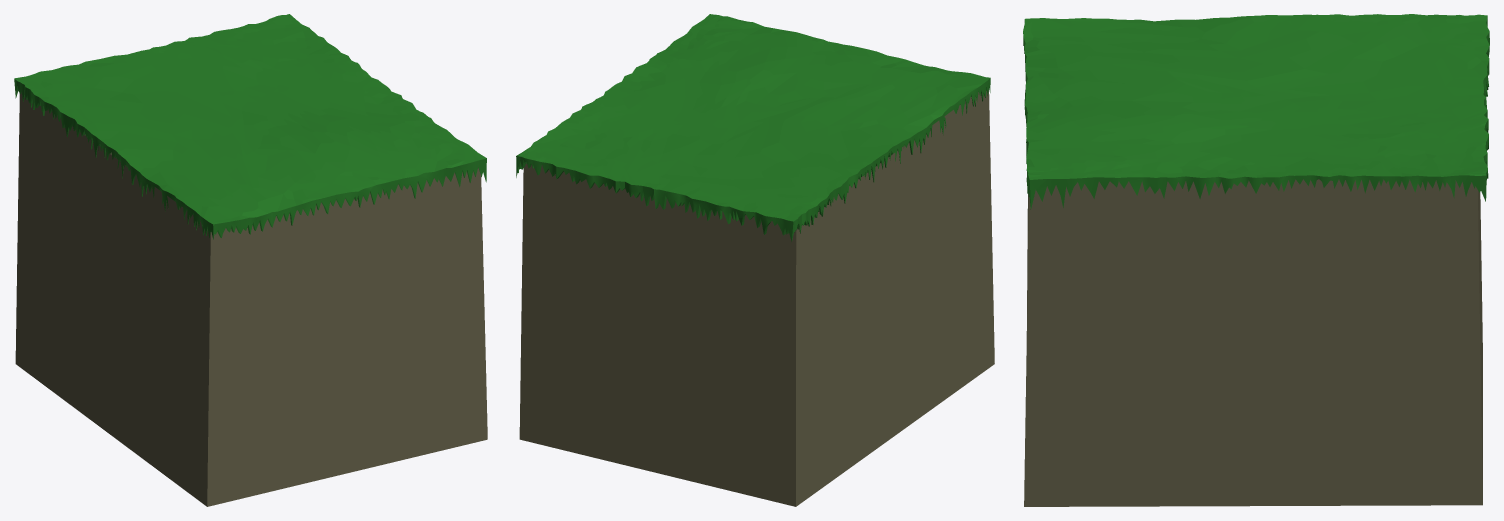
Rendered from grass_layer_square_big.fbx.
3 renders of one model, left to right at view 1: azimuth 30°, elevation 25°; view 2: azimuth 150°, elevation 25°; view 3: azimuth 270°, elevation 25°, orthographic. The views are drawn at different scales.
Visible parts, largest first — view 1: grass_layer_square_big_base, grass_layer_square_big; view 2: grass_layer_square_big_base, grass_layer_square_big; view 3: grass_layer_square_big_base, grass_layer_square_big.
Boxes of the visible parts, x1,y1,x2,y2 form: grass_layer_square_big_base: (15, 92, 487, 506); grass_layer_square_big: (14, 14, 486, 239); grass_layer_square_big_base: (519, 90, 994, 506); grass_layer_square_big: (516, 14, 990, 241); grass_layer_square_big_base: (1024, 179, 1482, 506); grass_layer_square_big: (1023, 14, 1489, 209).
Size of the model in its own units: 1666 by 1615 by 2042.
